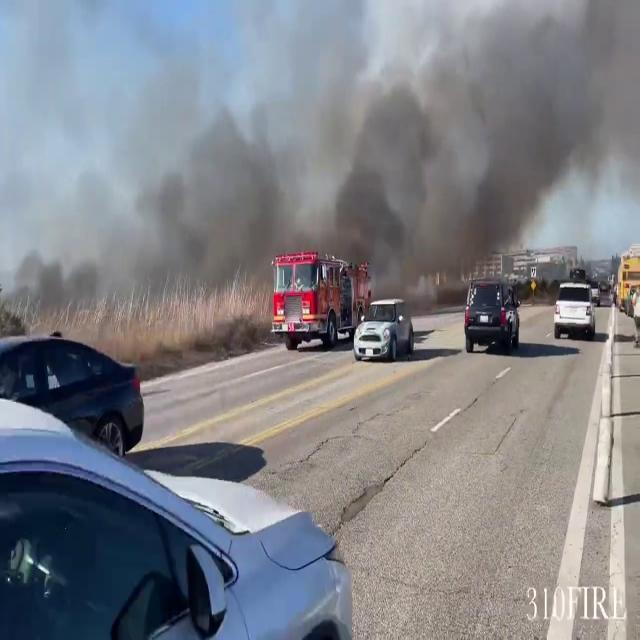Smoke: (308, 0, 640, 275), (1, 68, 300, 327)
